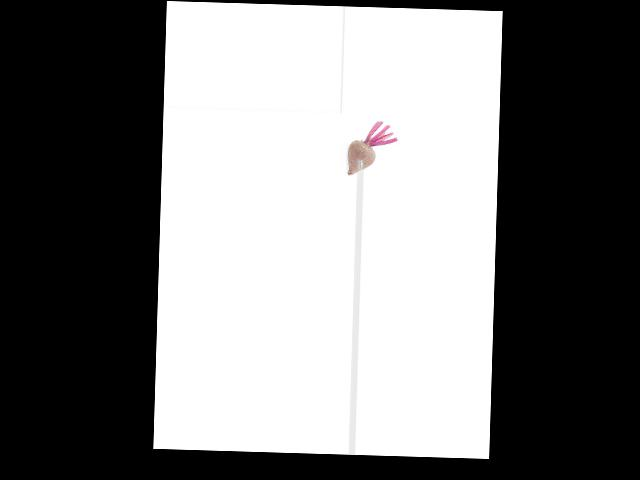beet: (347, 120, 398, 177)
